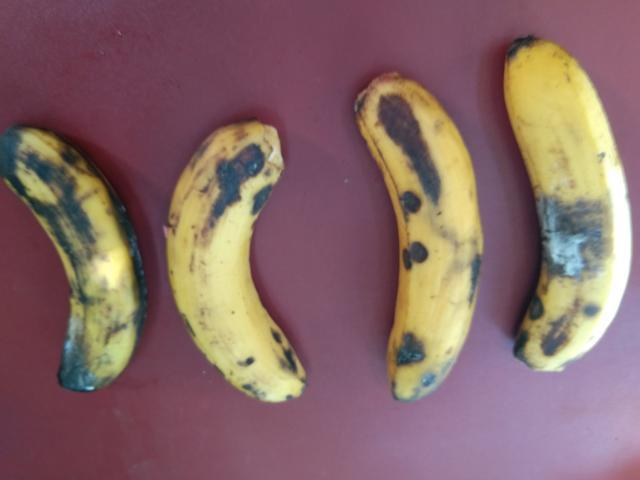overripe: (340, 54, 499, 443), (158, 122, 327, 411)
rotten: (501, 27, 639, 392), (0, 115, 162, 412)
